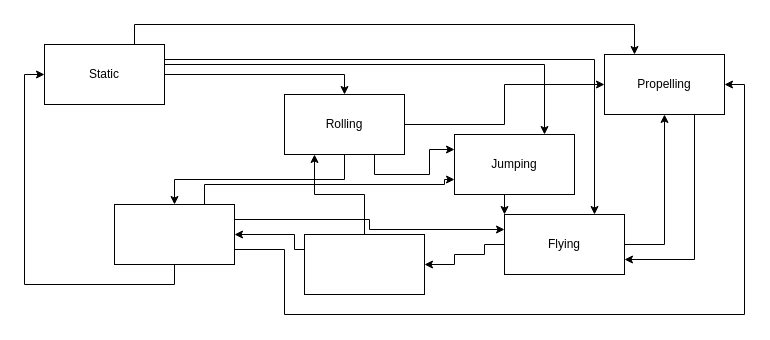
The diagram is 770 pixels wide and 340 high, and some of its shapes have lost their labels. The shapes that lost their labels are listed below. From the top down, each one's centre as x and y in pixels, then its label:
At pixel 174 234: "Braking".
At pixel 364 264: "Landed".
